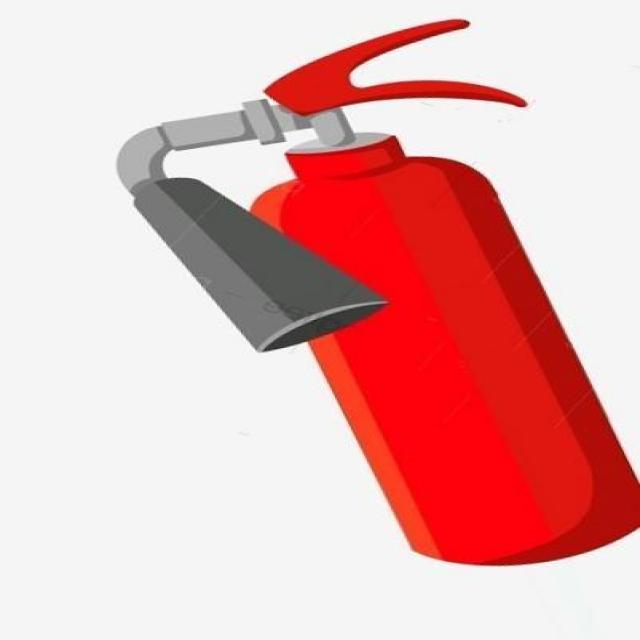fire_extinguisher: (107, 14, 638, 568)
